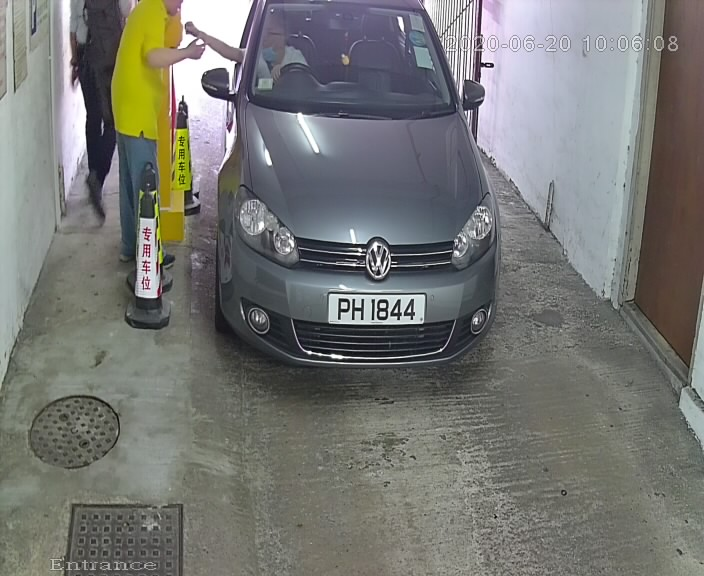privatecar: (194, 3, 522, 384)
